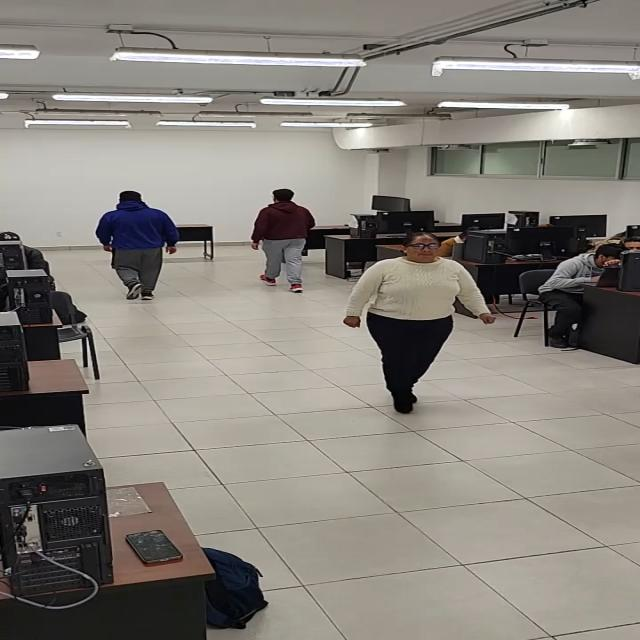Persona: (338, 228, 508, 419), (94, 188, 194, 305), (247, 184, 319, 298)
